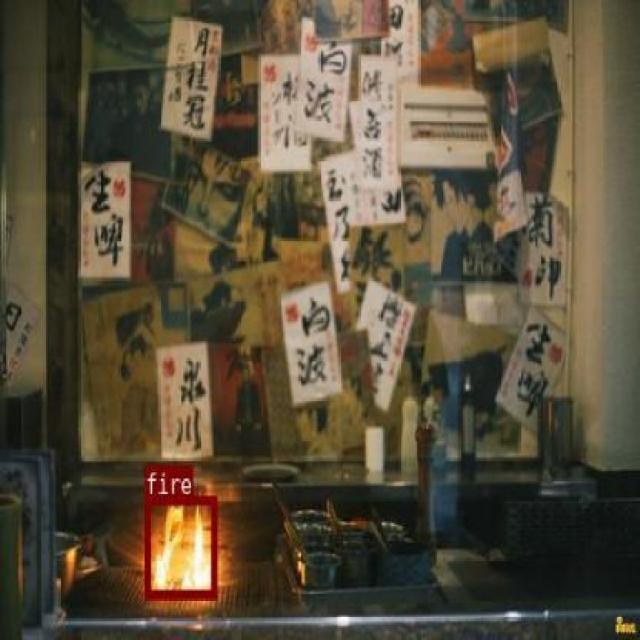Fire: (73, 103, 179, 546)
